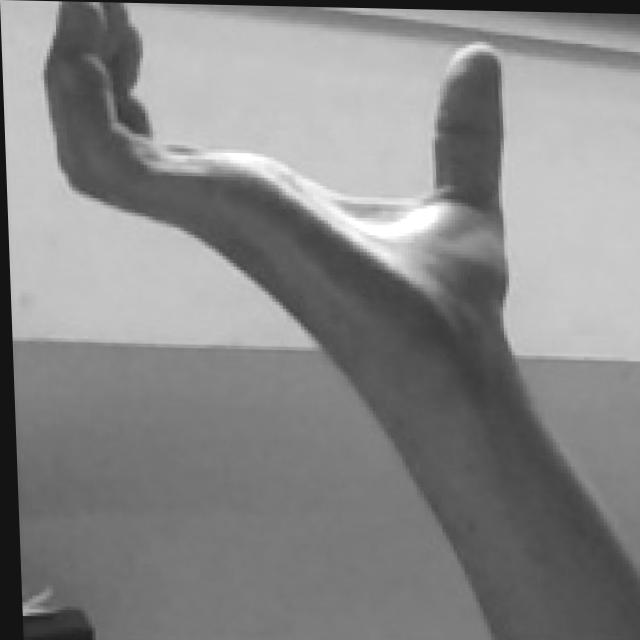space: (42, 1, 515, 352)
